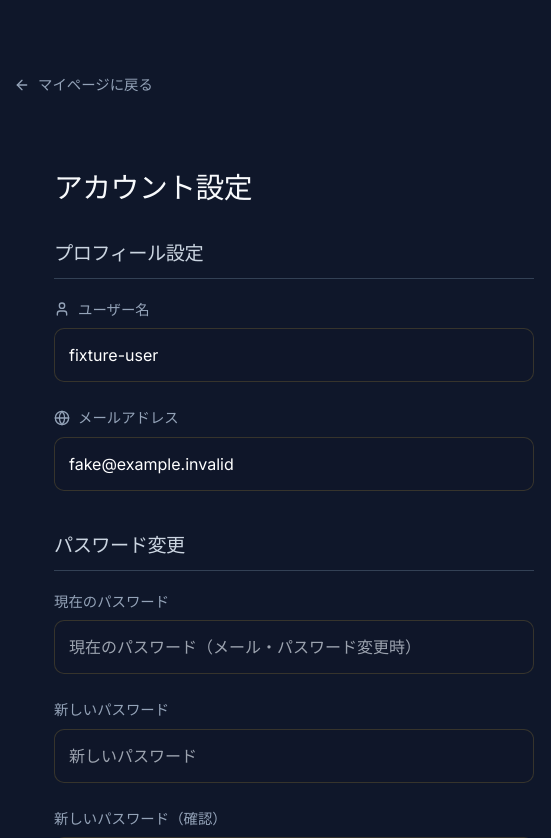
Test: account settings after a credential change › keeps the current address visible until confirmation and displays the pending instruction
Replace the text in the field with placeholder "メールアドレス" with "new@example.invalid". click: x=294, y=464
box: x1=54 y1=437 x2=534 y2=491
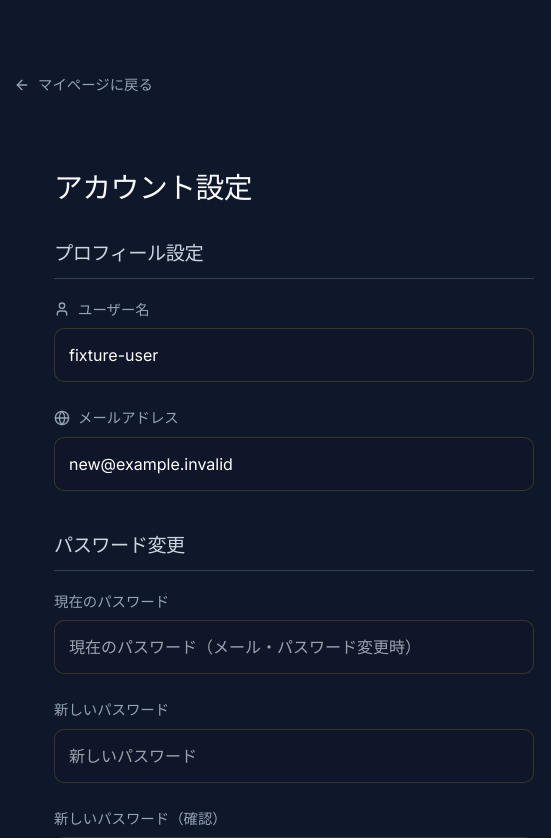
Type "fixture-old-password" into the password field with placeholder "現在のパスワード（メール・パスワード変更時）". click: x=294, y=647
box: x1=54 y1=620 x2=534 y2=674
(page scrolled)
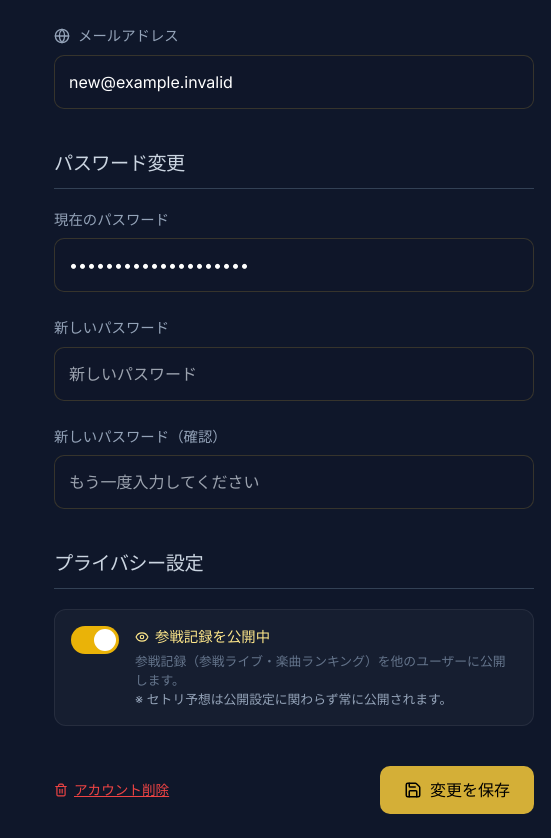
Click the button "変更を保存". click: x=457, y=790
box: x1=380 y1=766 x2=534 y2=814
(page scrolled)
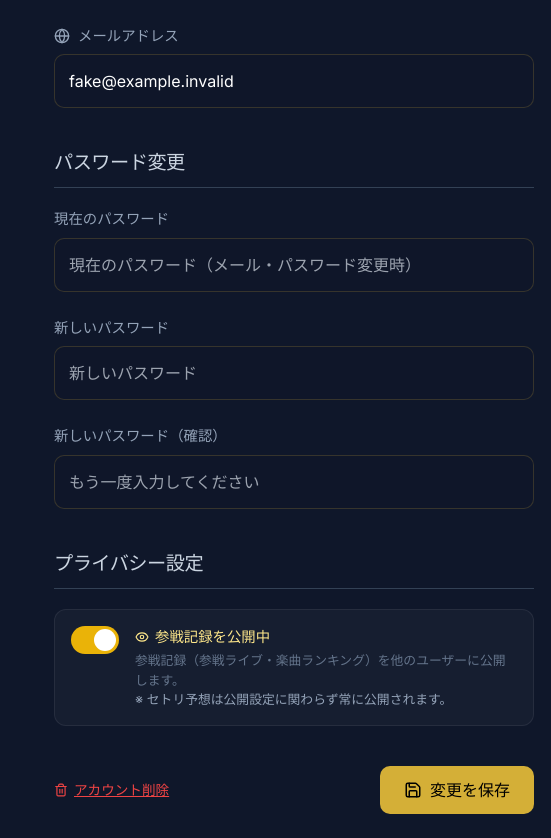
Check: the field with placeholder "メールアドレス" holds "fake@example.invalid", box x1=54 y1=54 x2=534 y2=108
